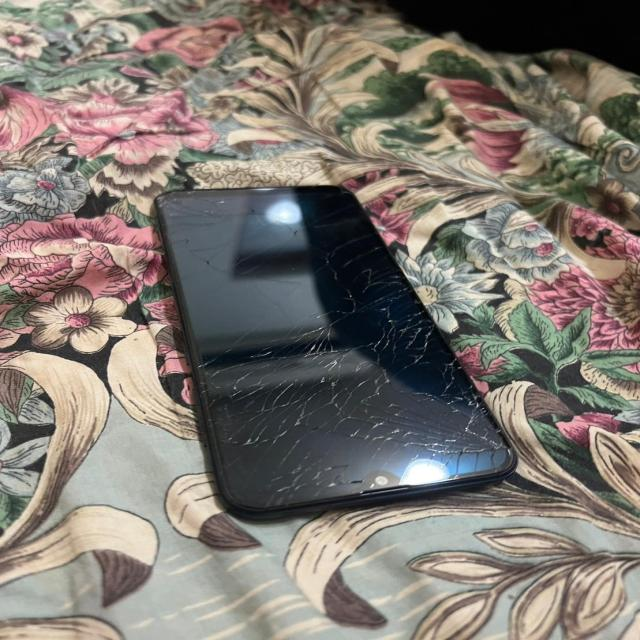Smartphone: (137, 170, 530, 518)
